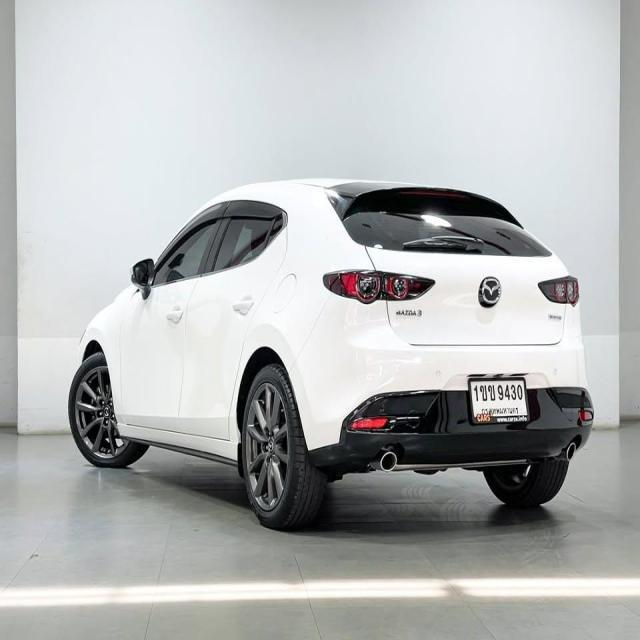Hatchback: (67, 179, 595, 533)
